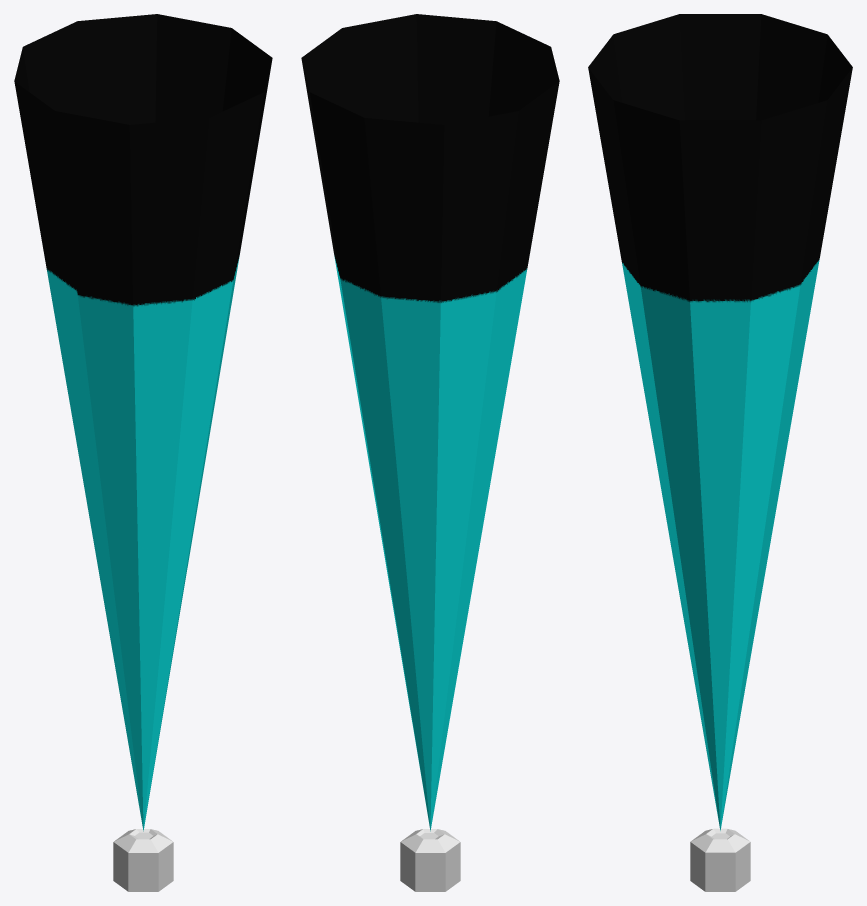
File: movingLightCone.fbx
3 renders of one model, left to right at view 1: azimuth 30°, elevation 25°; view 2: azimuth 150°, elevation 25°; view 3: azimuth 270°, elevation 25°, orthographic.
Visible parts, largest first — view 1: Cone, Cylinder; view 2: Cone, Cylinder; view 3: Cone, Cylinder.
Boxes of the visible parts, box(x1,y1,x2,y2) form: Cone: box(14, 14, 272, 831); Cylinder: box(113, 829, 173, 891); Cone: box(301, 14, 559, 831); Cylinder: box(400, 829, 460, 891); Cone: box(588, 14, 852, 830); Cylinder: box(690, 828, 750, 891).
Bounding box in the file's own units: 1073 × 3825 × 1128.
